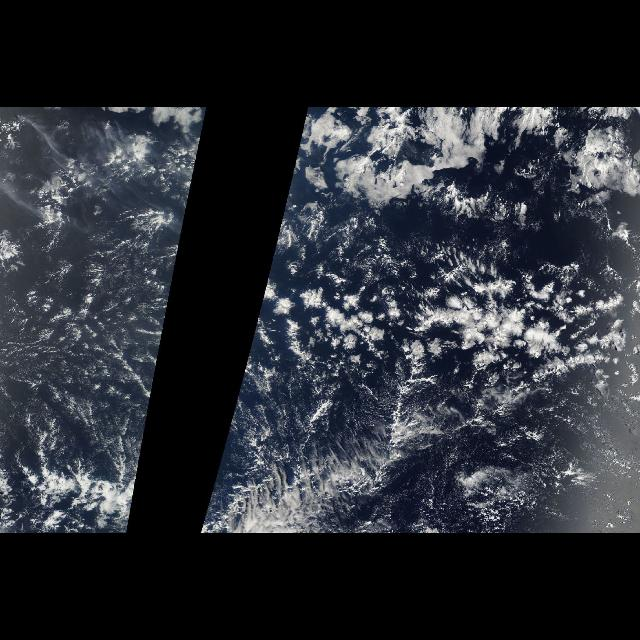Fish: (253, 402, 585, 532)
Sugar: (0, 190, 182, 462)
